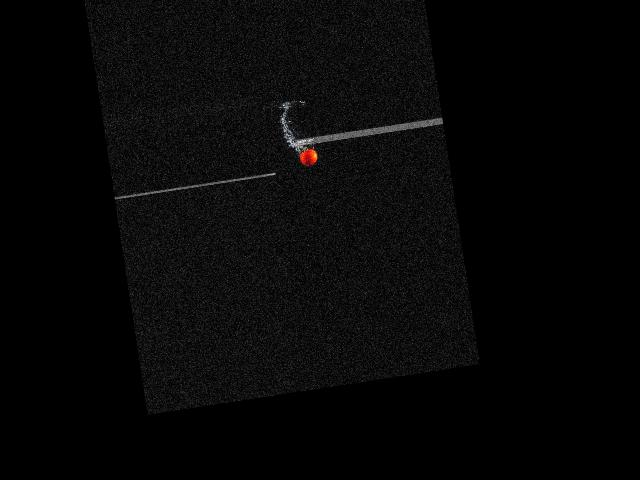tomato: (298, 148, 318, 166)
